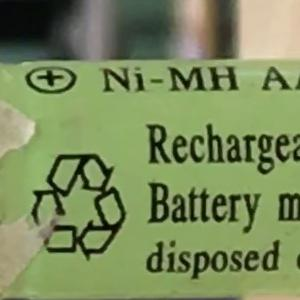keyword: (92, 56, 248, 102)
